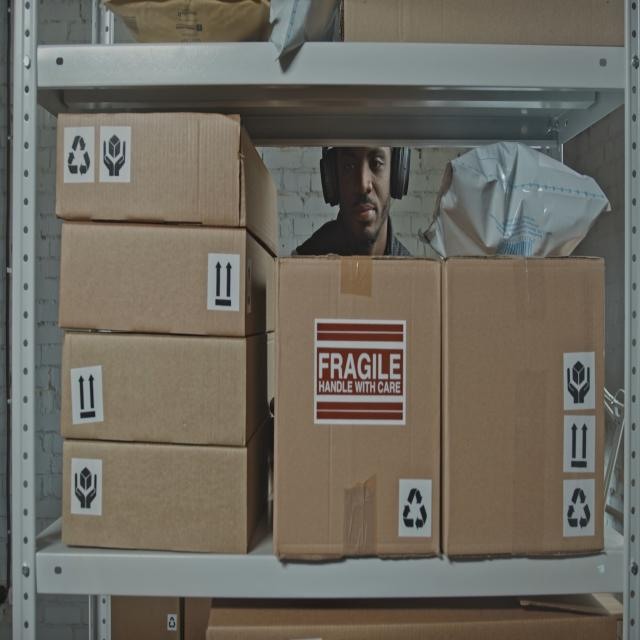counting-the-number-of-boxes: (274, 258, 442, 562), (440, 258, 604, 558), (55, 113, 279, 258), (61, 415, 273, 554), (59, 223, 275, 337), (61, 332, 274, 446)
